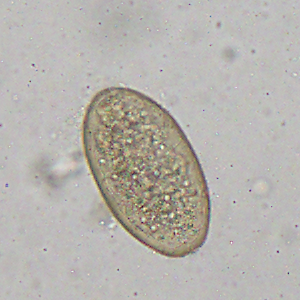Fasciola_hepatica_egg: (80, 85, 213, 259)
